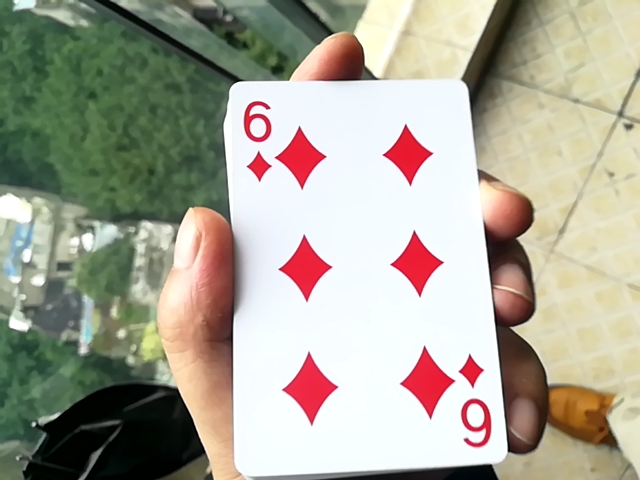fk 6: (210, 59, 506, 480)
